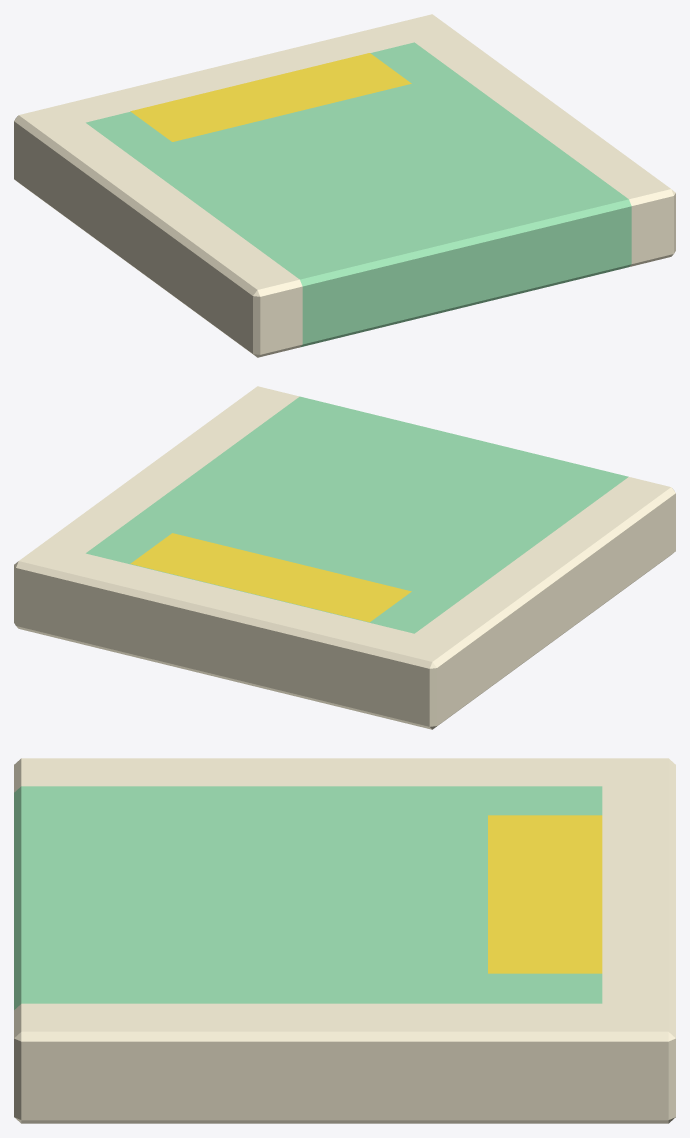
File: Outside_Road_01.fbx
3 views of the same model, one above another, from view 1: azimuth 30°, elevation 25°; view 2: azimuth 150°, elevation 25°; view 3: azimuth 270°, elevation 25° (orthographic). The views are drawn at different scales.
Parts seen in each view (by area): view 1: Outside_Road_01; view 2: Outside_Road_01; view 3: Outside_Road_01.
Boxes of the visible parts, box(x1,y1,x2,y2) form: Outside_Road_01: box(14, 14, 675, 357); Outside_Road_01: box(14, 386, 675, 729); Outside_Road_01: box(14, 758, 675, 1123).
Bounding box in the file's own units: 106 × 16.4 × 106.
